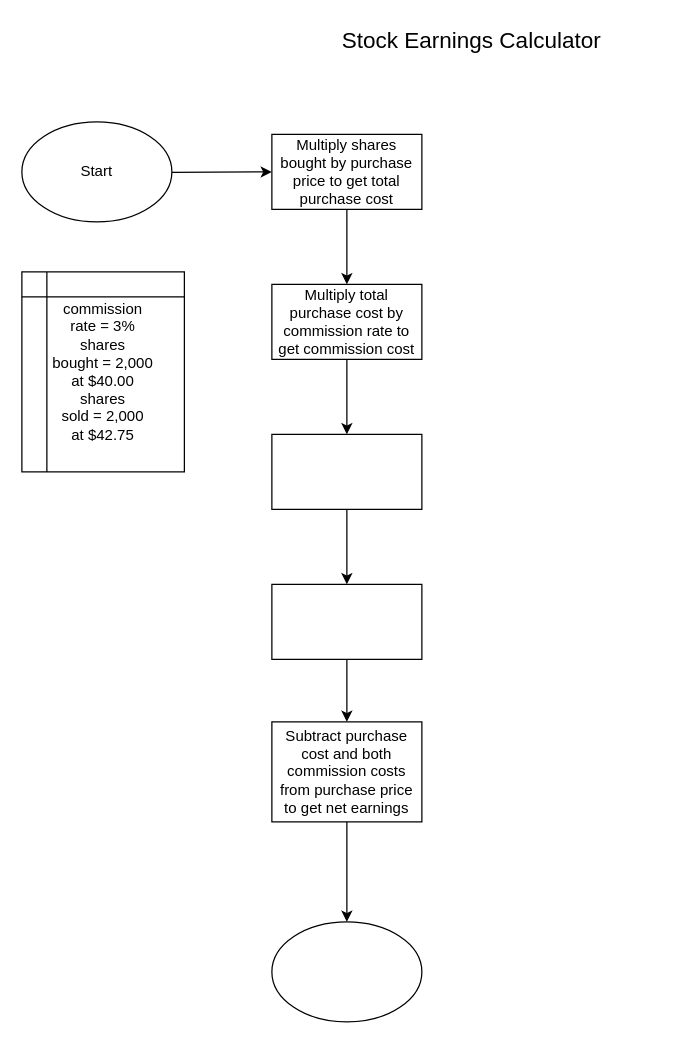
Image size: 694x1044. Some labels were removed from this diagram. The shapes that lost their labels are listed below. From the top down, each one's centre as x and y in pixels, then its label:
the point at 346,471: Multiply shares sold by sell price to get total sale
the point at 346,621: Multiply total sale by commission rate to get sale commission cost
the point at 346,971: End
